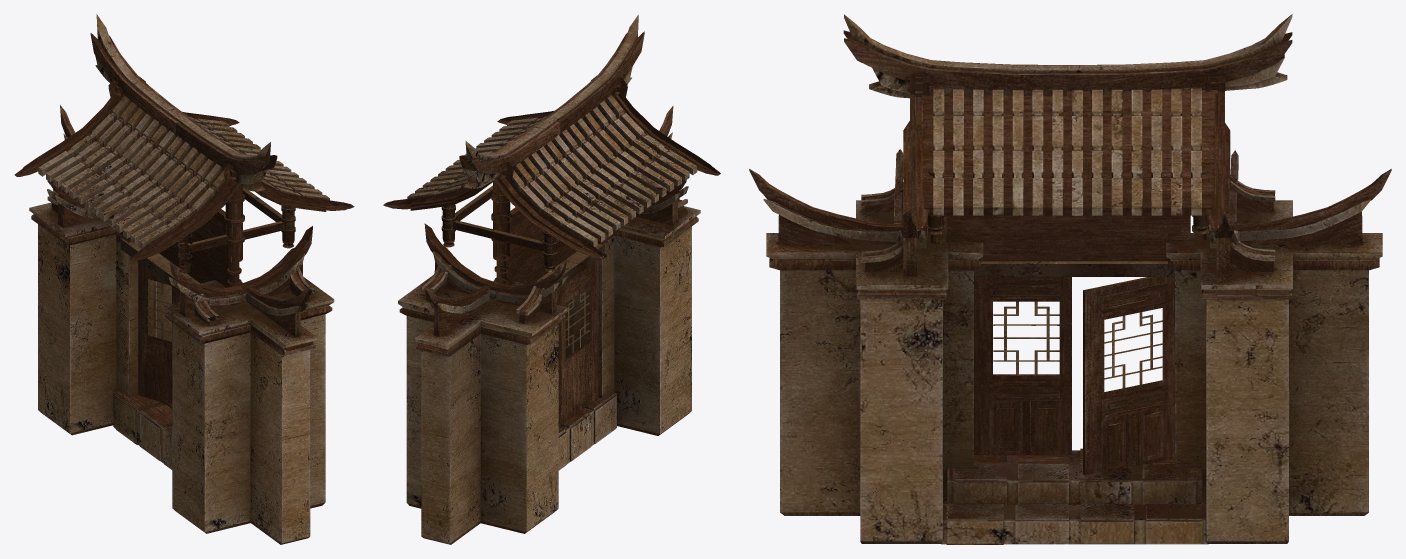
Rendered from temple.glb.
The picture shows the model from 3 angles, left to right: view 1: azimuth 30°, elevation 25°; view 2: azimuth 150°, elevation 25°; view 3: azimuth 270°, elevation 25°; orthographic projection. The views are drawn at different scales.
Parts seen in each view (by area): view 1: defaultMaterial; view 2: defaultMaterial; view 3: defaultMaterial.
Boxes of the visible parts, bbox=[...] form: defaultMaterial: bbox=[14, 14, 354, 544]; defaultMaterial: bbox=[383, 14, 720, 544]; defaultMaterial: bbox=[749, 14, 1391, 544].
Size of the model in its own units: 1191 by 1965 by 2314.
1 material, 1 textured.
